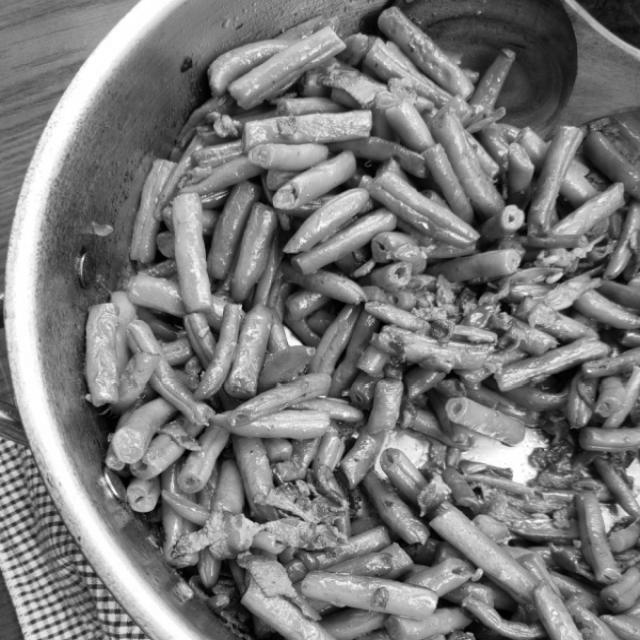Beans: (75, 4, 640, 640)
